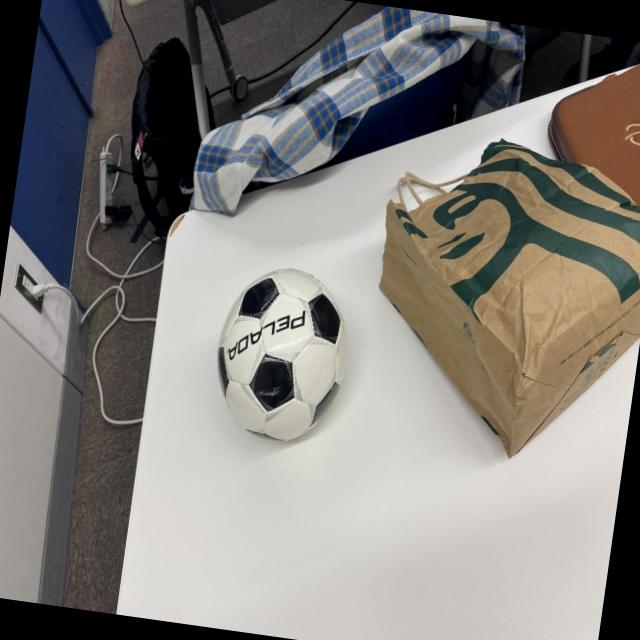Soccer Ball: (208, 260, 356, 450)
